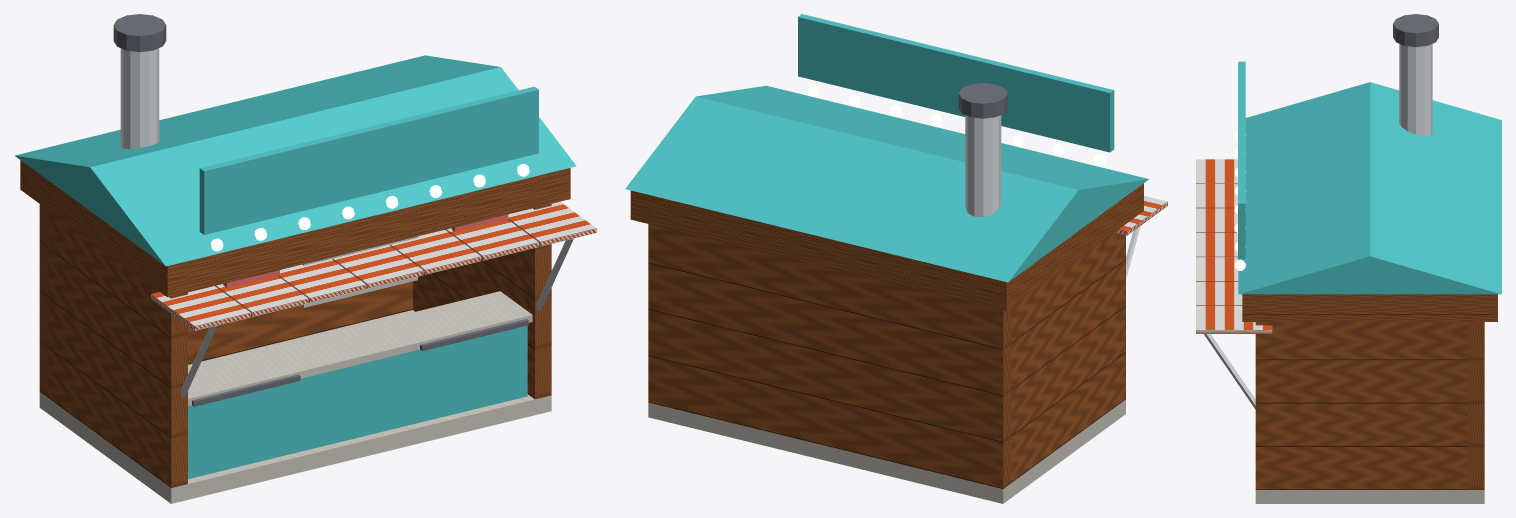
File: theme-park-rides-and-coasters-theme-park-rides-and-coa-8dfa8d2a__28683.glb
The picture shows the model from 3 angles, left to right: view 1: azimuth 30°, elevation 25°; view 2: azimuth 150°, elevation 25°; view 3: azimuth 270°, elevation 25°; orthographic projection. The views are drawn at different scales.
Visible parts, largest first — view 1: theme-park-rides-and-coasters-burger-shack; view 2: theme-park-rides-and-coasters-burger-shack; view 3: theme-park-rides-and-coasters-burger-shack.
Boxes of the visible parts, left/top/right/bottom form: theme-park-rides-and-coasters-burger-shack: left=15, top=14, right=596, bottom=503; theme-park-rides-and-coasters-burger-shack: left=625, top=14, right=1167, bottom=503; theme-park-rides-and-coasters-burger-shack: left=1196, top=14, right=1501, bottom=503.
Size of the model in its own units: 5.4 by 4.98 by 4.
8 materials, 3 textured.
